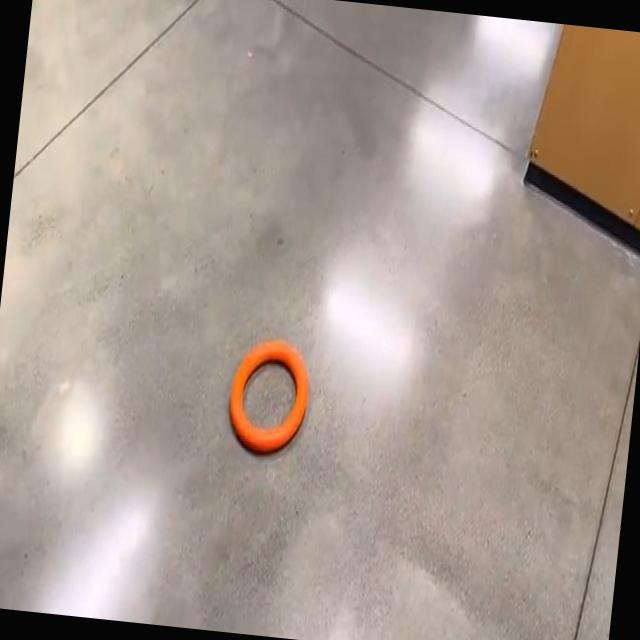note: (223, 337, 312, 459)
